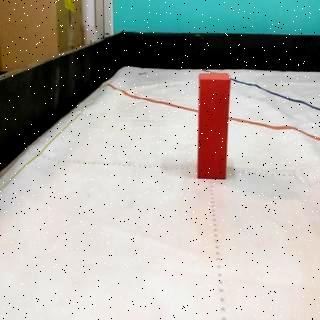redbox: (198, 73, 230, 180)
